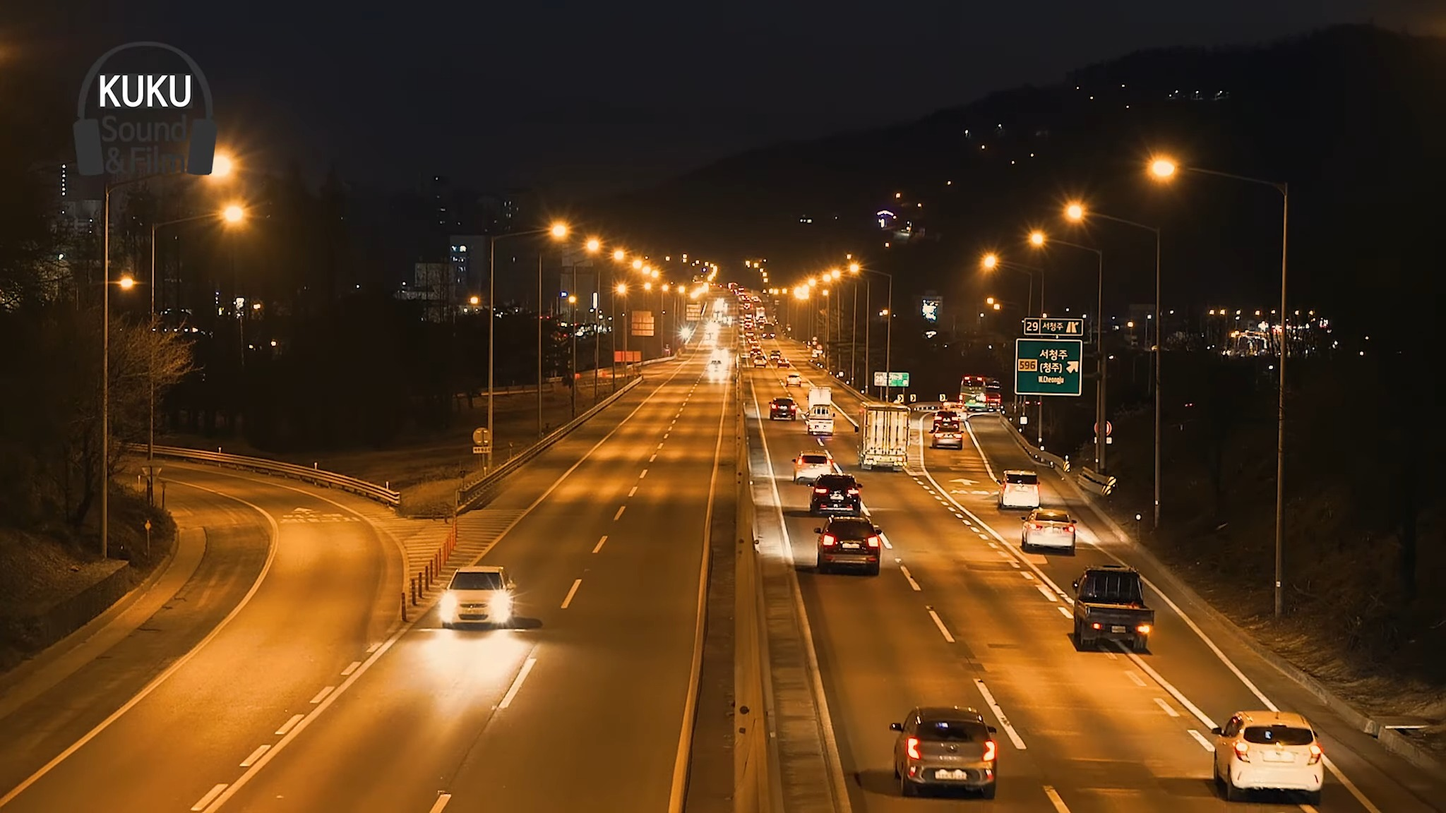car: (1217, 708, 1326, 803), (899, 703, 997, 795), (436, 560, 517, 634), (819, 516, 886, 574), (1024, 508, 1076, 555)
truck: (1066, 561, 1159, 649)
